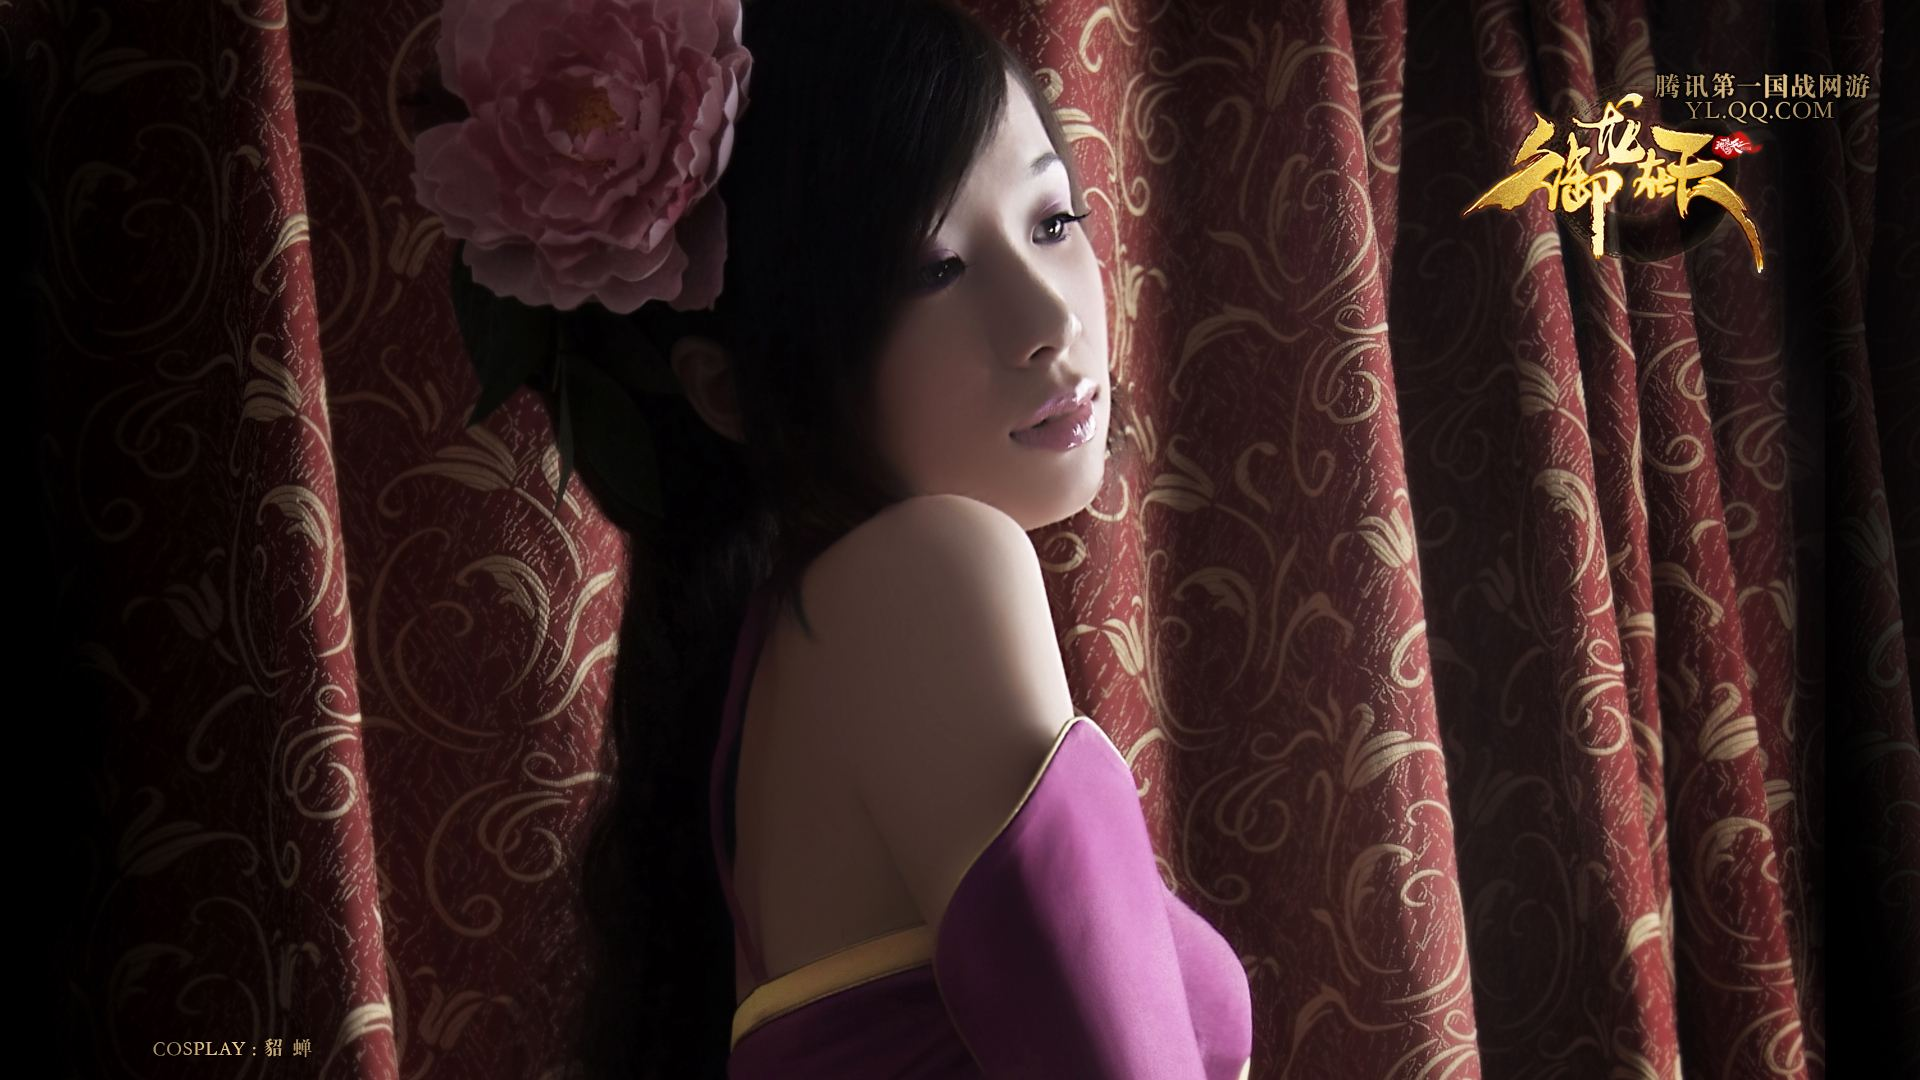person: (352, 17, 1459, 1021)
